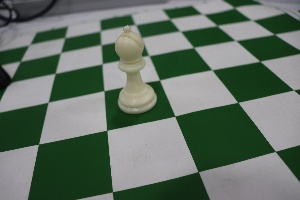white_bishop: (102, 17, 164, 120)
